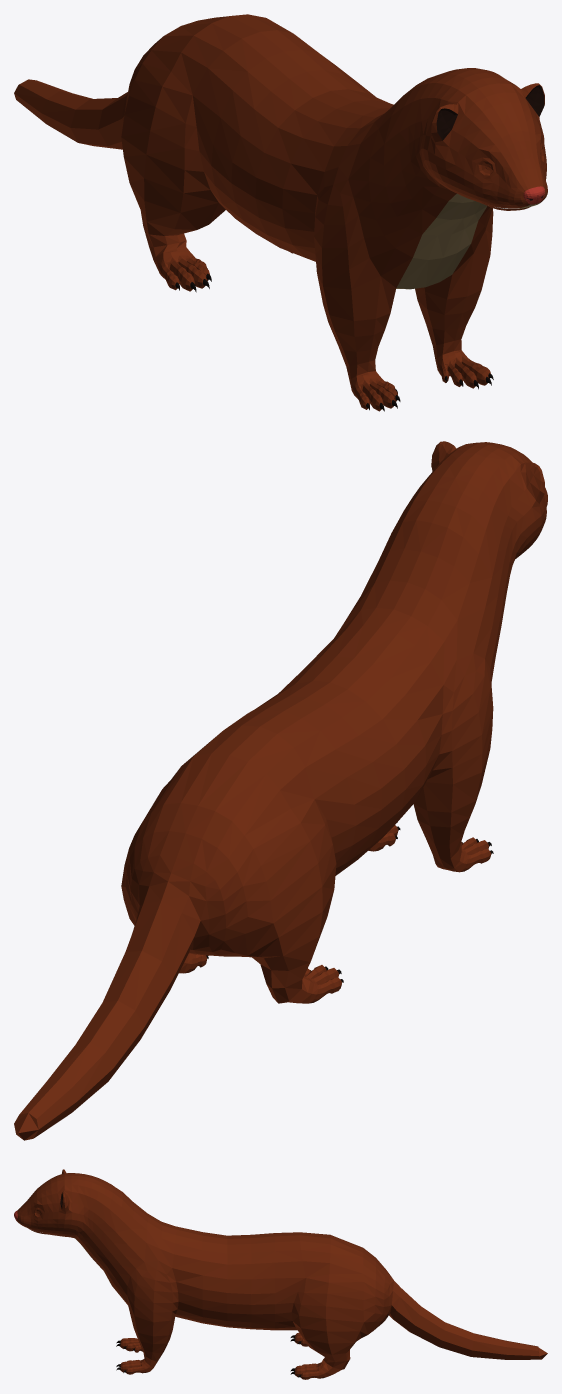
File: mink_mink.obj
3 views of the same model, one above another, from view 1: azimuth 30°, elevation 25°; view 2: azimuth 150°, elevation 25°; view 3: azimuth 270°, elevation 25° (orthographic). The views are drawn at different scales.
Size of the model in its own units: 0.0903 by 0.1726 by 0.4545.
